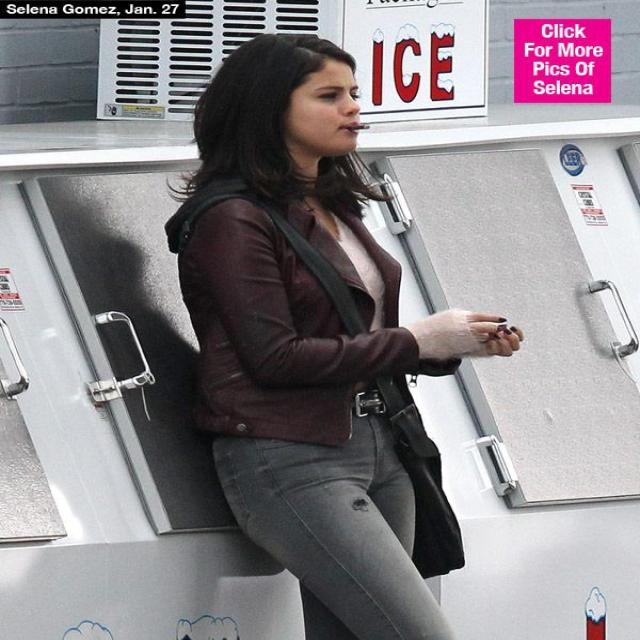cigarette: (322, 111, 377, 138)
